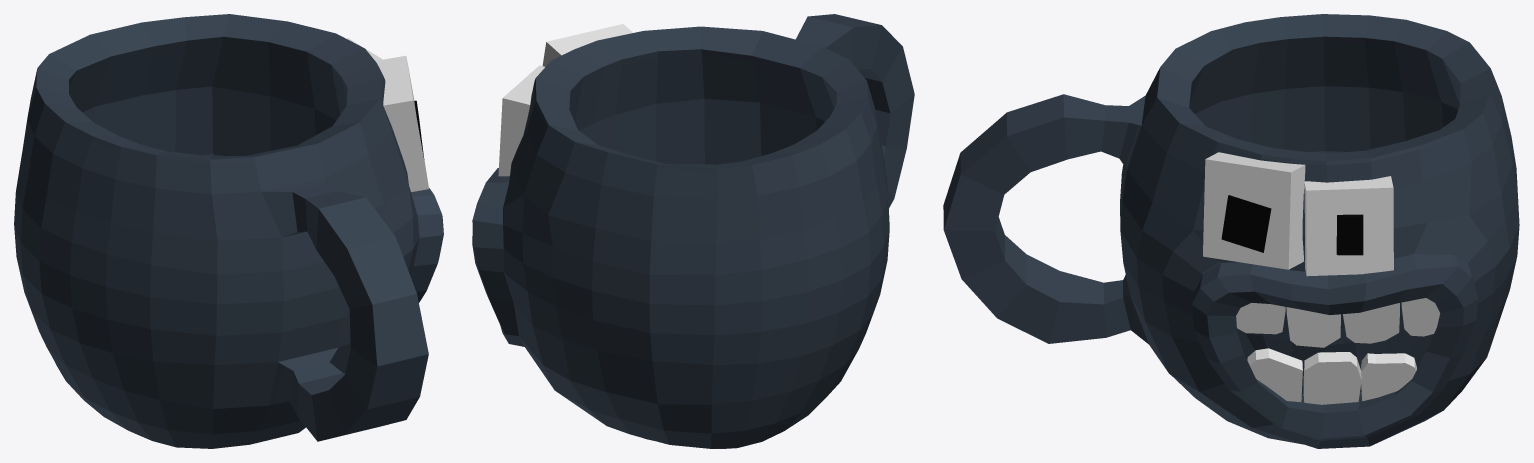
File: lowpoly_coffee_mug.glb
3 views of the same model, side by side, from view 1: azimuth 30°, elevation 25°; view 2: azimuth 150°, elevation 25°; view 3: azimuth 270°, elevation 25° (orthographic). The views are drawn at different scales.
Parts seen in each view (by area): view 1: Cube_0; view 2: Cube_0; view 3: Cube_0.
Boxes of the visible parts, x1,y1,x2,y2 form: Cube_0: [14, 14, 443, 448]; Cube_0: [472, 14, 914, 448]; Cube_0: [943, 14, 1519, 448].
Size of the model in its own units: 0.3065 by 0.2571 by 0.4194.
